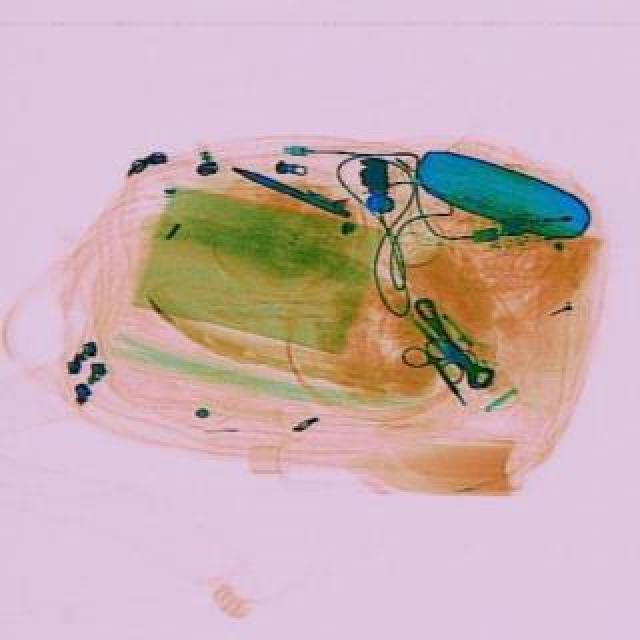pliers: (394, 328, 482, 416)
